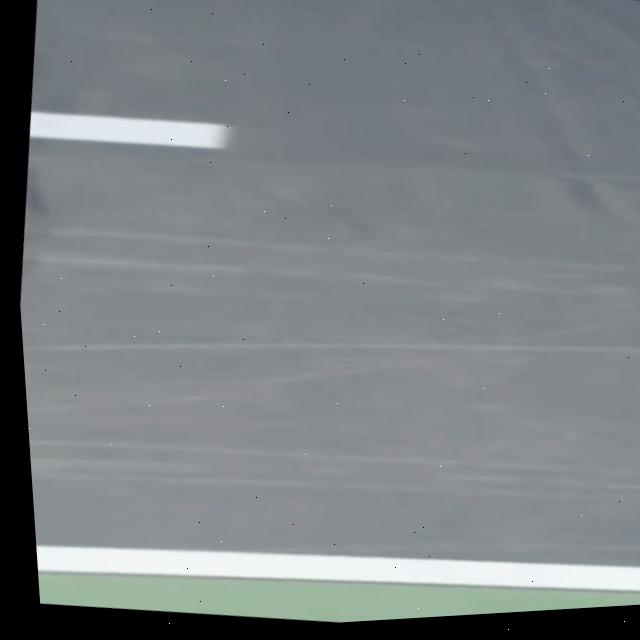center: (29, 110, 230, 147)
right: (36, 543, 640, 590)
